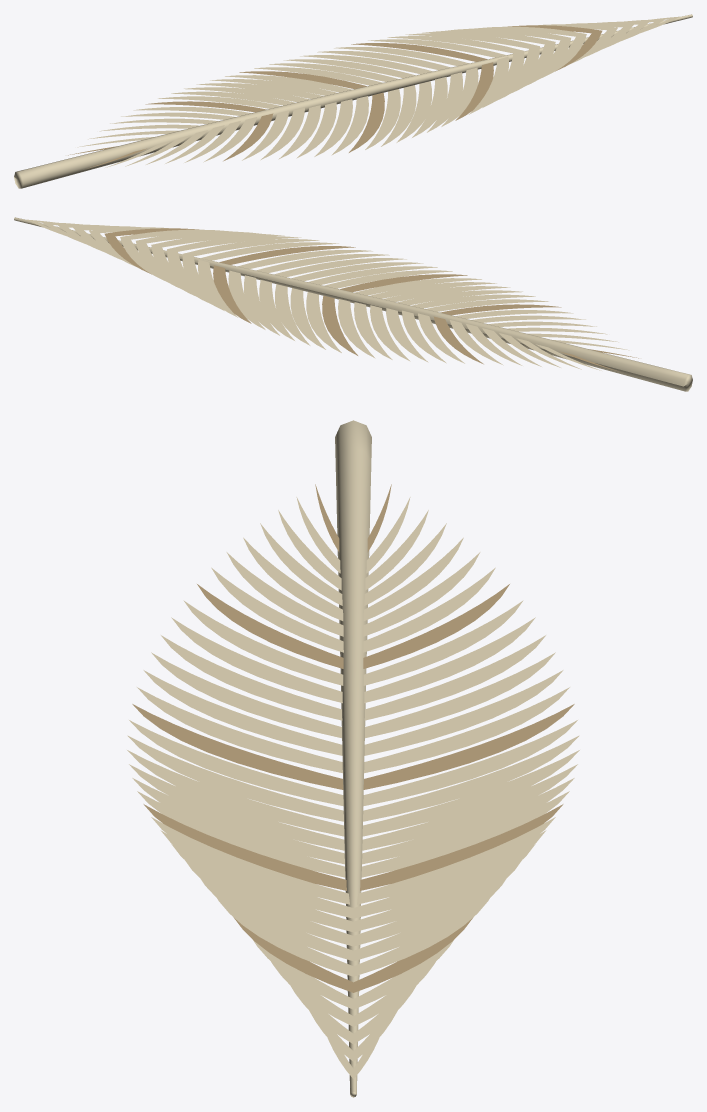
The model's file is props_p10__p10_feather.glb.
3 renders of one model, top to bottom at view 1: azimuth 30°, elevation 25°; view 2: azimuth 150°, elevation 25°; view 3: azimuth 270°, elevation 25°, orthographic. The views are drawn at different scales.
Visible parts, largest first — view 1: feather_barb (×53), quill; view 2: feather_barb (×53), quill; view 3: feather_barb (×54), quill.
Boxes of the visible parts, x1=… form: feather_barb (×53): x1=99, y1=25, x2=617, y2=164; quill: x1=14, y1=14, x2=692, y2=188; feather_barb (×53): x1=89, y1=228, x2=607, y2=367; quill: x1=14, y1=217, x2=692, y2=391; feather_barb (×54): x1=127, y1=523, x2=579, y2=1009; quill: x1=335, y1=420, x2=371, y2=1097.
Size of the model in its own units: 0.185 by 0.00473 by 0.0539.
